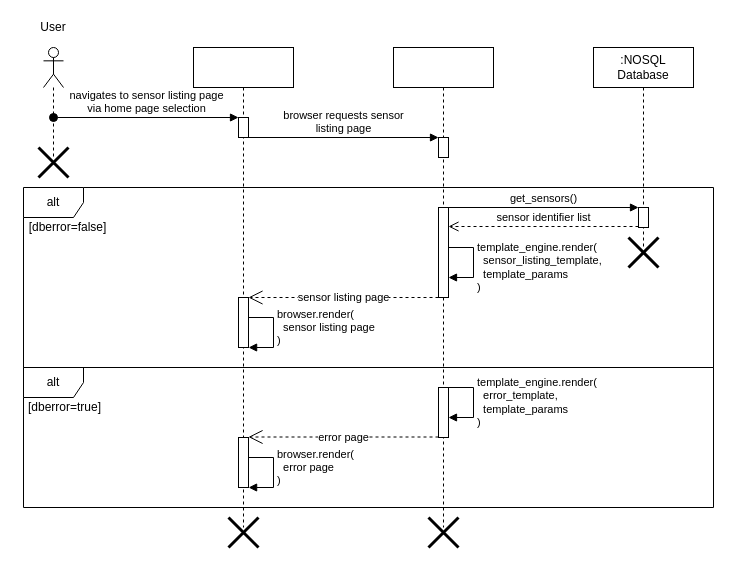
This 731x566 diagram has some shape labels left out. Each missing label, with the box of its shape:
:Web Server: (392, 46, 494, 528)
<<external>> :Web Browser: (192, 46, 294, 528)
